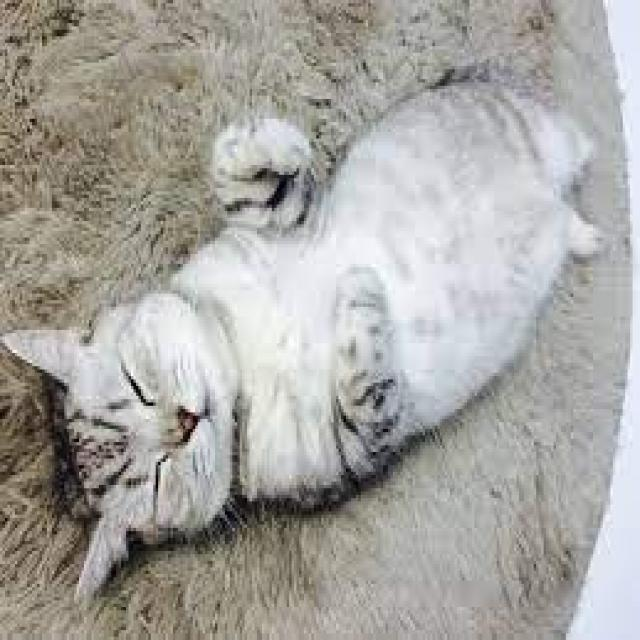cat: (0, 69, 608, 612)
